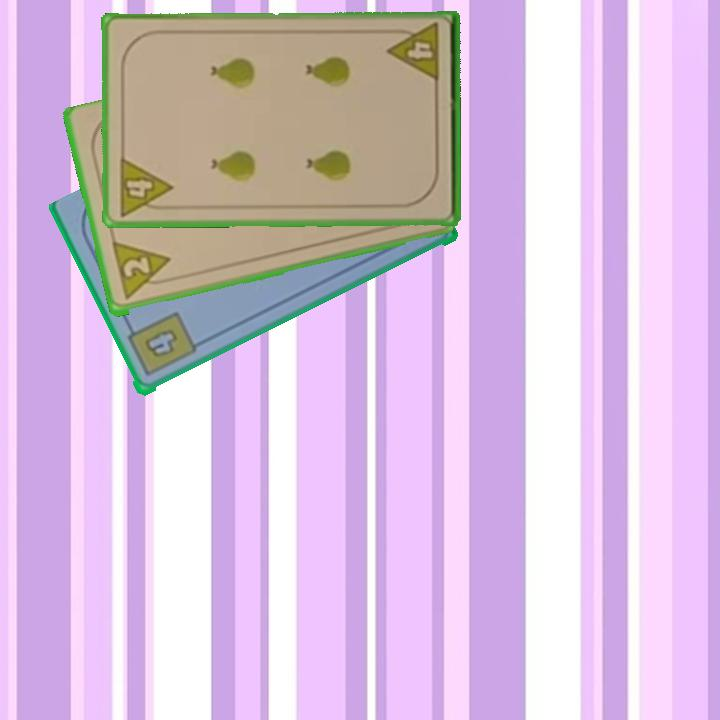2p: (108, 240, 177, 305)
4b: (123, 308, 198, 380)
4p: (115, 154, 175, 219), (385, 20, 442, 85)
